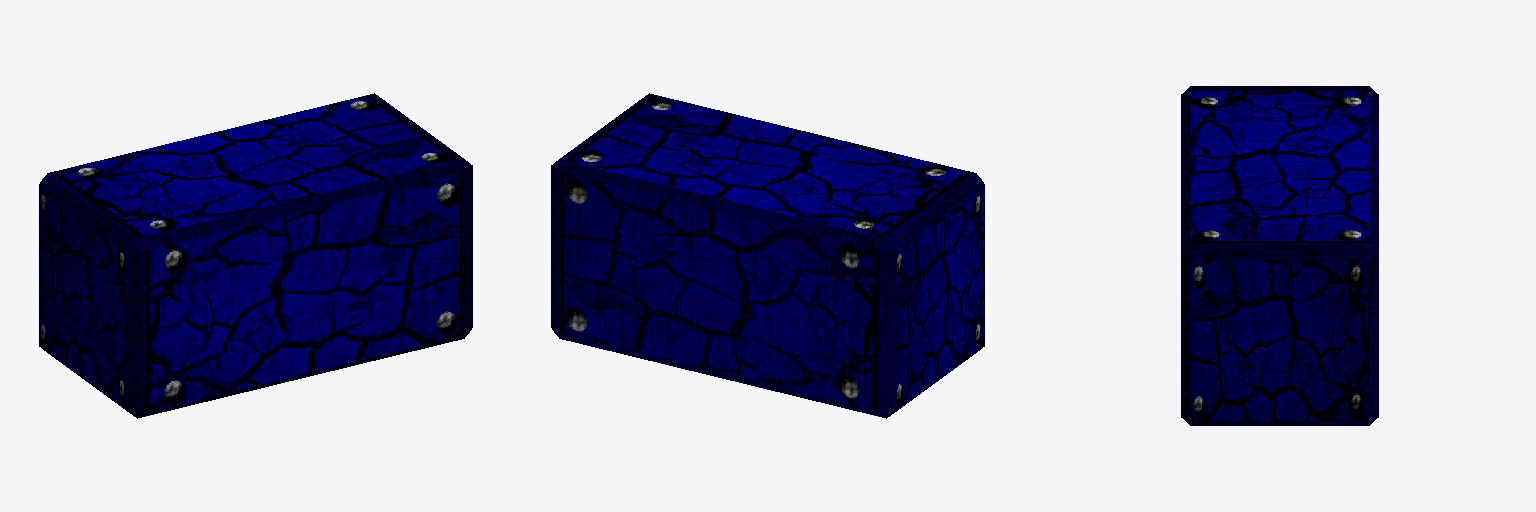
3 views of the same model, side by side, from view 1: azimuth 30°, elevation 25°; view 2: azimuth 150°, elevation 25°; view 3: azimuth 270°, elevation 25° (orthographic).
Parts seen in each view (by area): view 1: default; view 2: default; view 3: default.
Boxes of the visible parts, x1=… form: default: x1=39, y1=93, x2=472, y2=418; default: x1=551, y1=93, x2=984, y2=418; default: x1=1181, y1=86, x2=1378, y2=425.
Size of the model in its own units: 2 by 1 by 1.
1 materials, 1 textured.